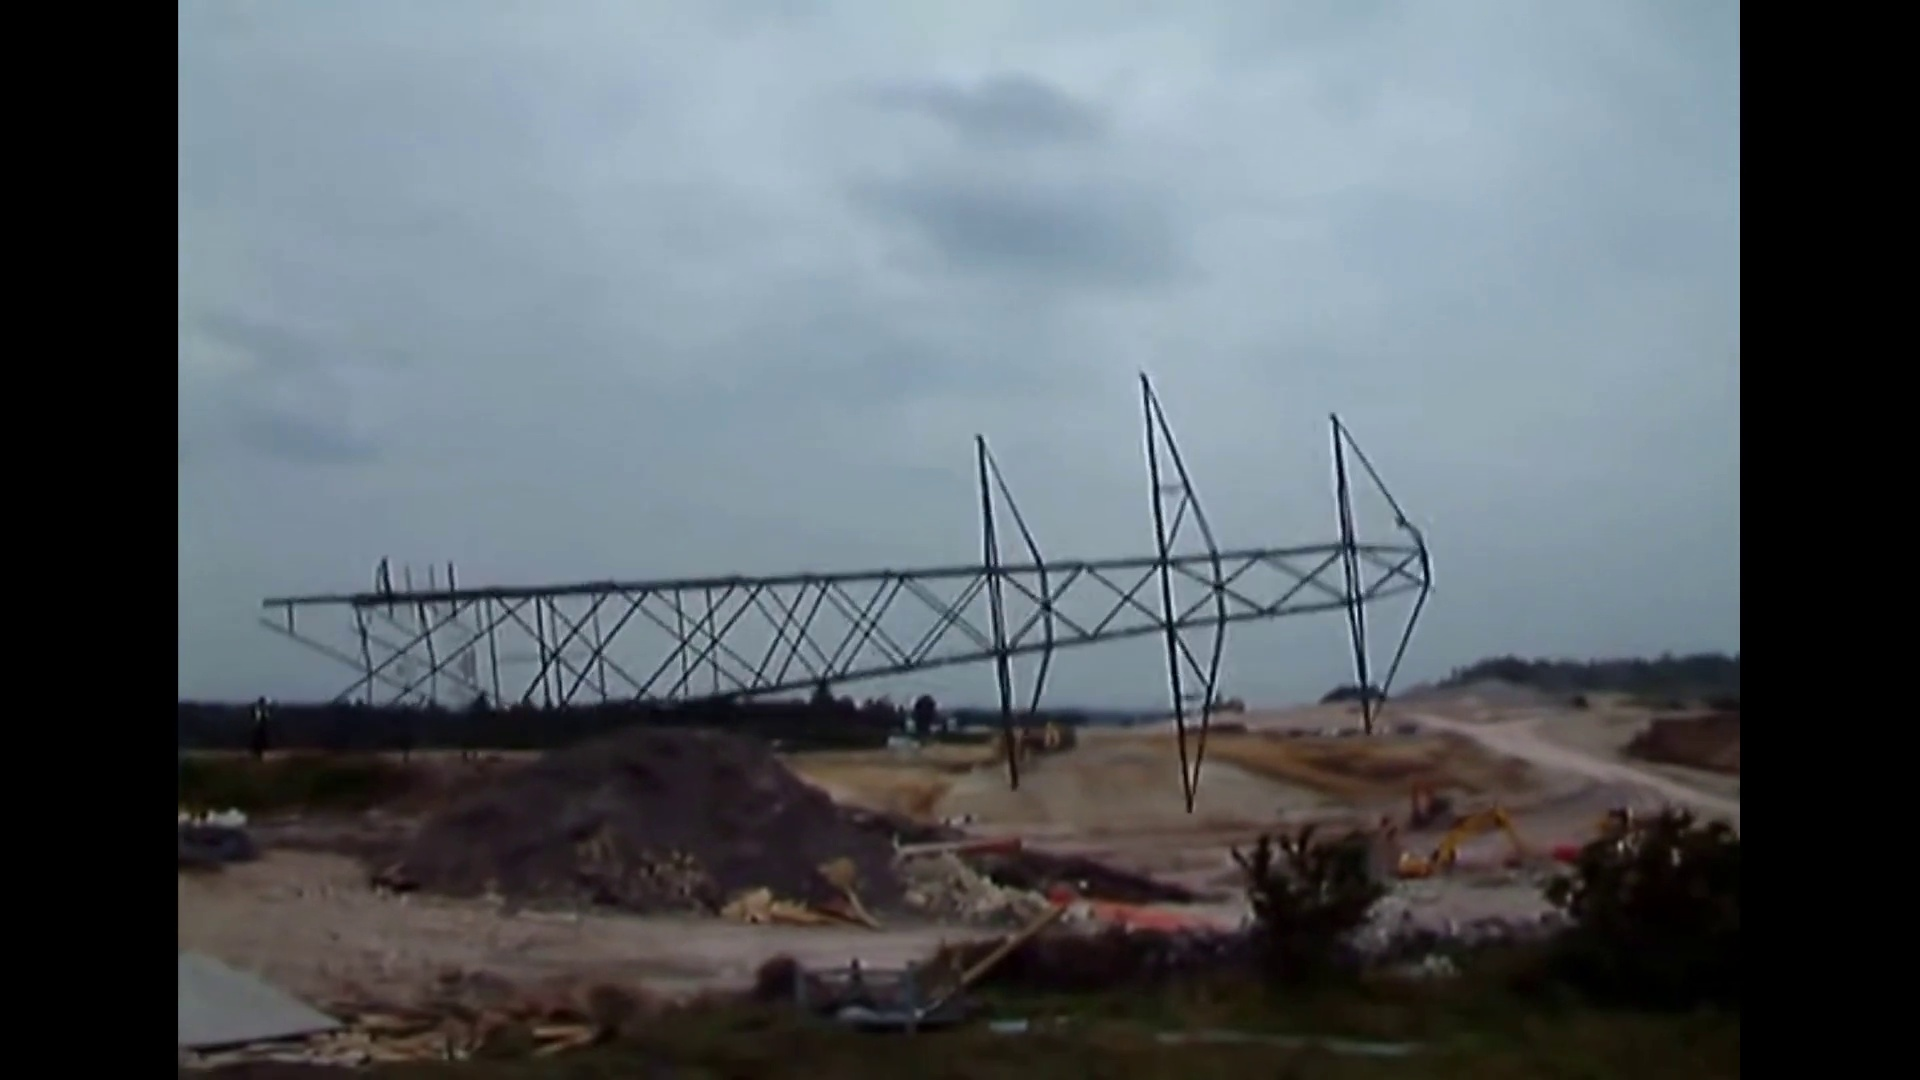tower_down: (265, 359, 1473, 786)
